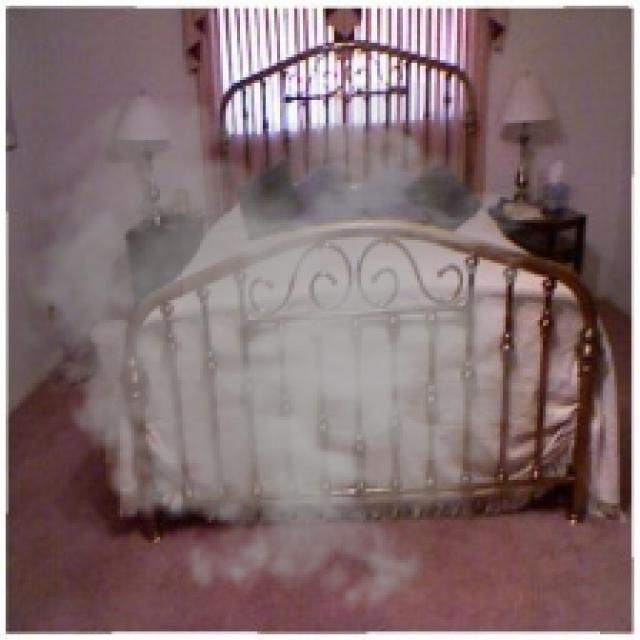smoke: (6, 83, 574, 626)
